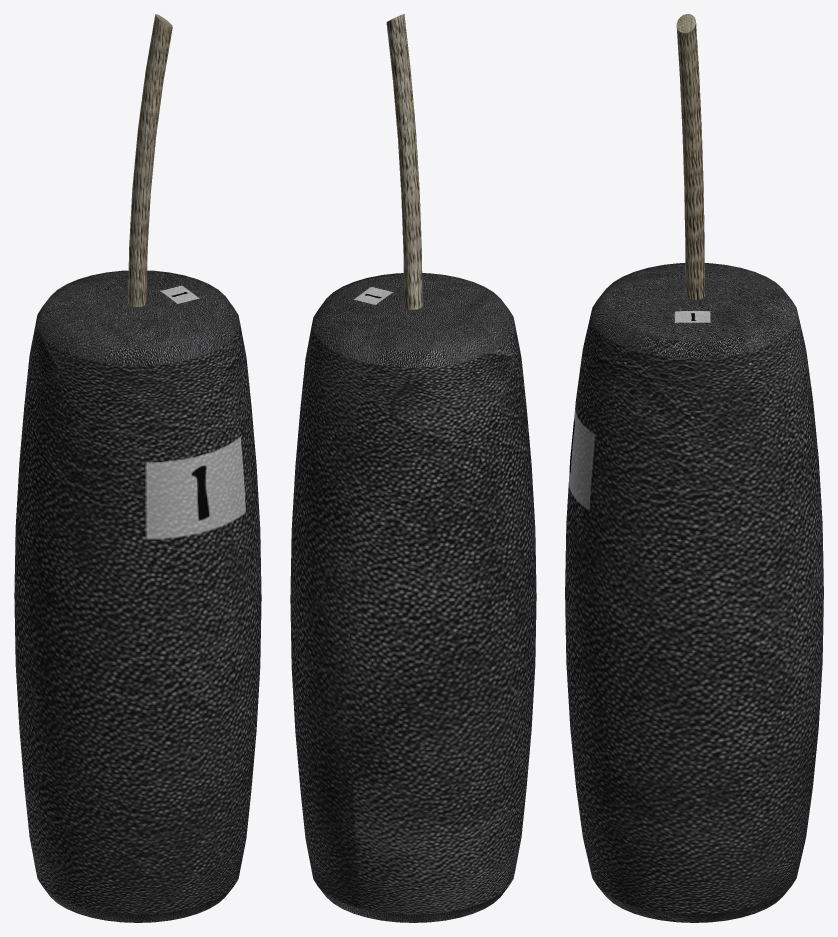
Rendered from punching bag black 1.FBX.
3 views of the same model, side by side, from view 1: azimuth 30°, elevation 25°; view 2: azimuth 150°, elevation 25°; view 3: azimuth 270°, elevation 25° (orthographic).
Parts seen in each view (by area): view 1: Cylinder001, Cylinder002; view 2: Cylinder001, Cylinder002; view 3: Cylinder001, Cylinder002.
Boxes of the visible parts, x1=… form: Cylinder001: x1=14, y1=270, x2=261, y2=922; Cylinder002: x1=128, y1=14, x2=172, y2=306; Cylinder001: x1=290, y1=273, x2=536, y2=922; Cylinder002: x1=386, y1=14, x2=422, y2=309; Cylinder001: x1=565, y1=263, x2=823, y2=922; Cylinder002: x1=676, y1=14, x2=704, y2=299.
Size of the model in its own units: 54.37 by 216 by 56.99.
